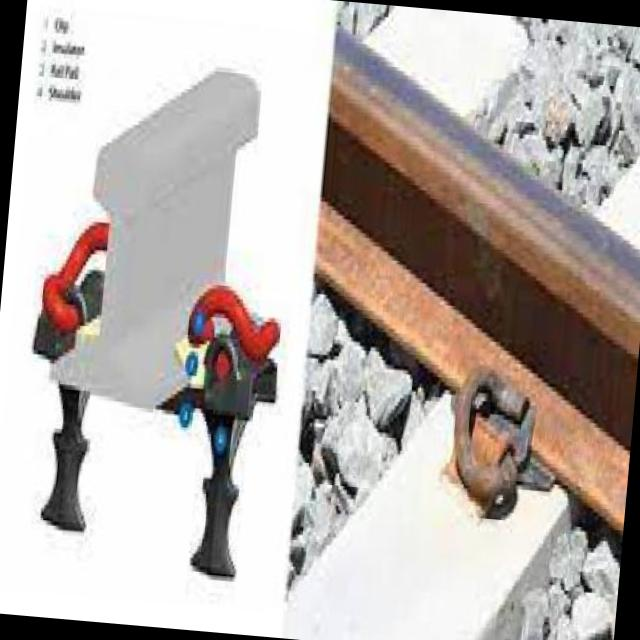non-defective: (289, 23, 640, 537)
